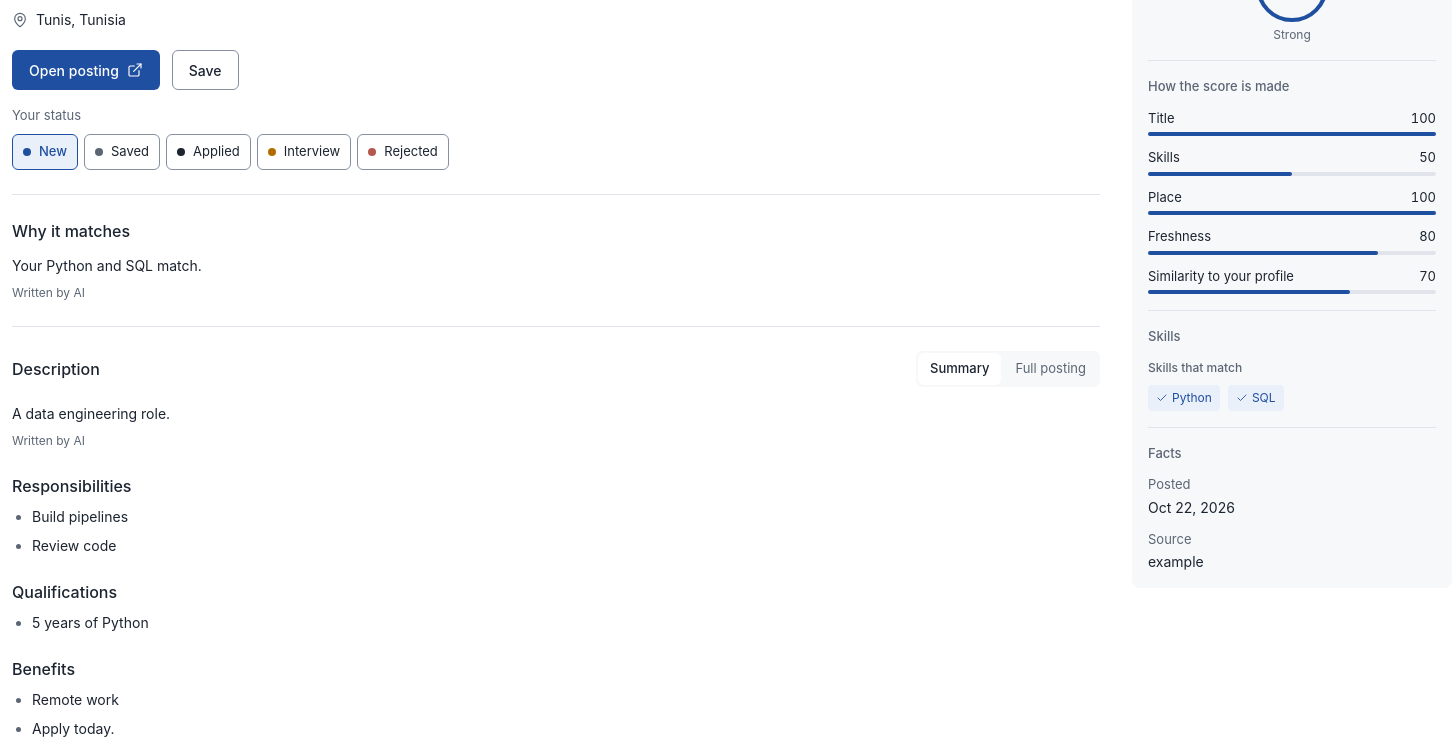
it: job detail › shows a summary of responsibilities, qualifications and benefits, and the full posting on demand
The image size is (1452, 744).
Check: the text "A data engineering role." is shown, box [12, 405, 170, 422]
Check: the heading "Responsibilities" is shown, box [12, 476, 132, 496]
Step 1. Click the button "Full posting" → [1051, 369], box [1003, 353, 1098, 385]
(page scrolled)
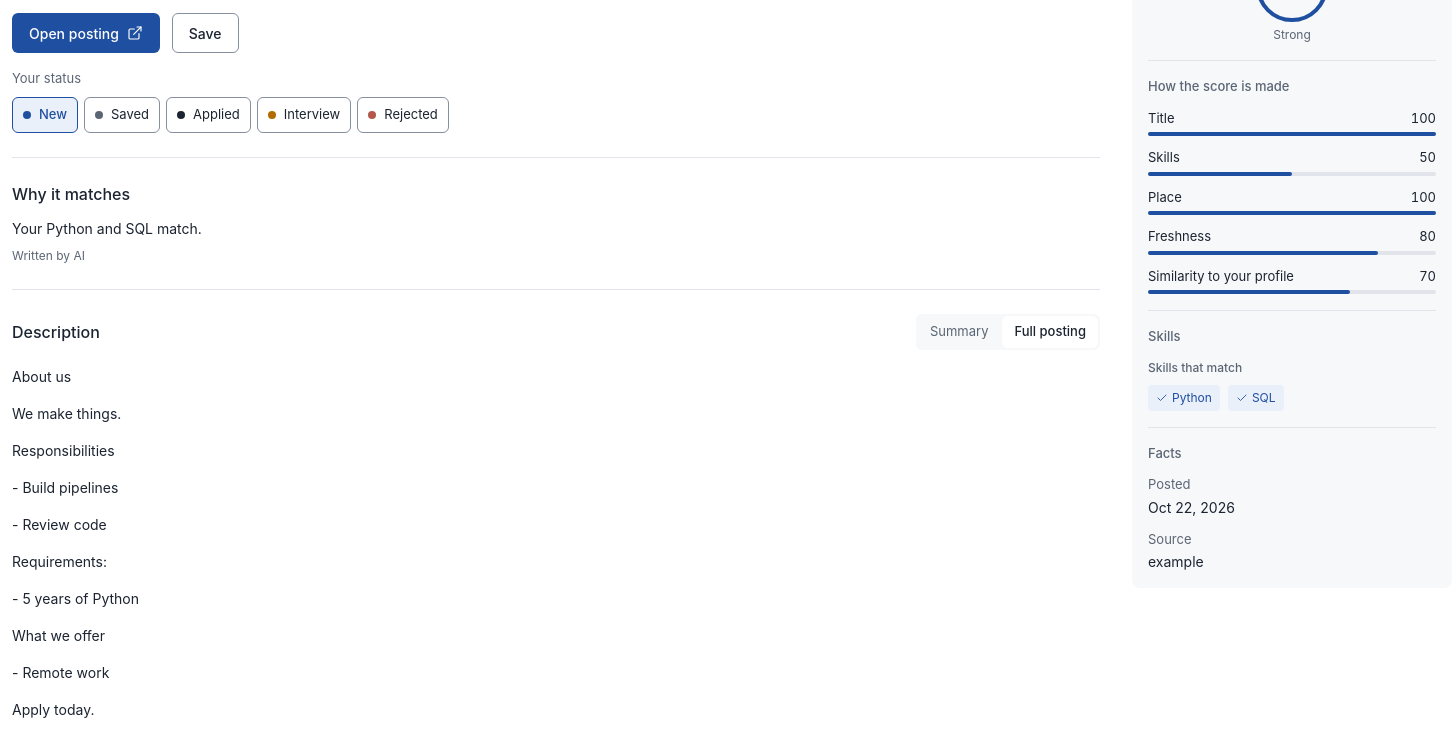
Check: the text "Apply today." is shown, box [12, 701, 94, 718]
Check: the text "We make things." is shown, box [12, 405, 121, 422]
Check: the heading "Benefits" is gone
